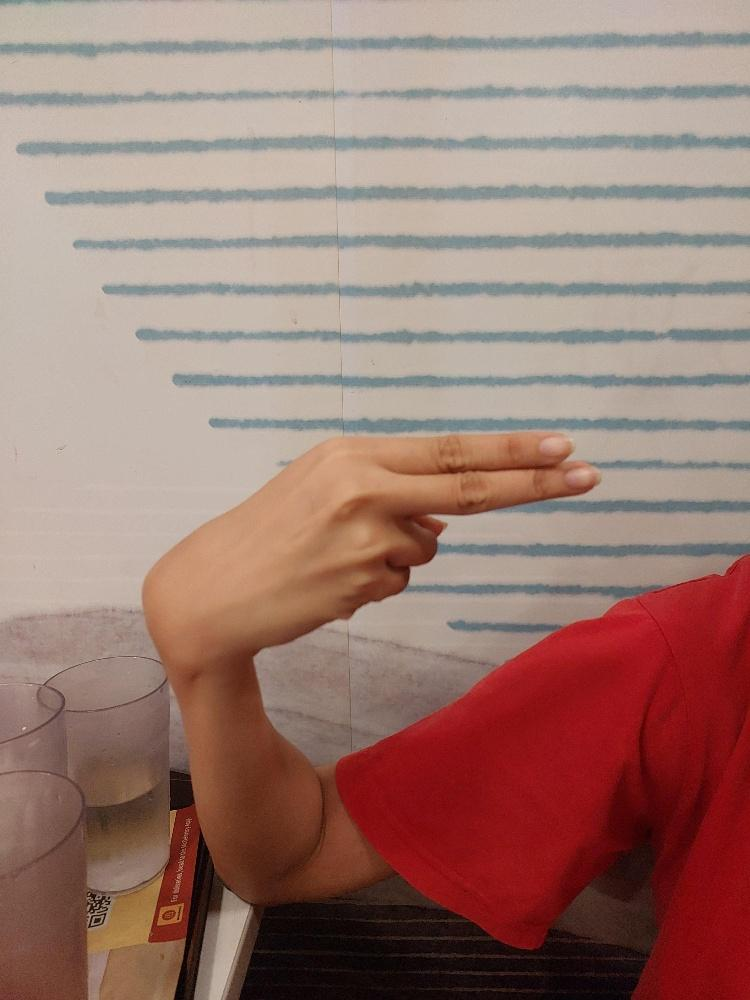h: (140, 425, 603, 653)
